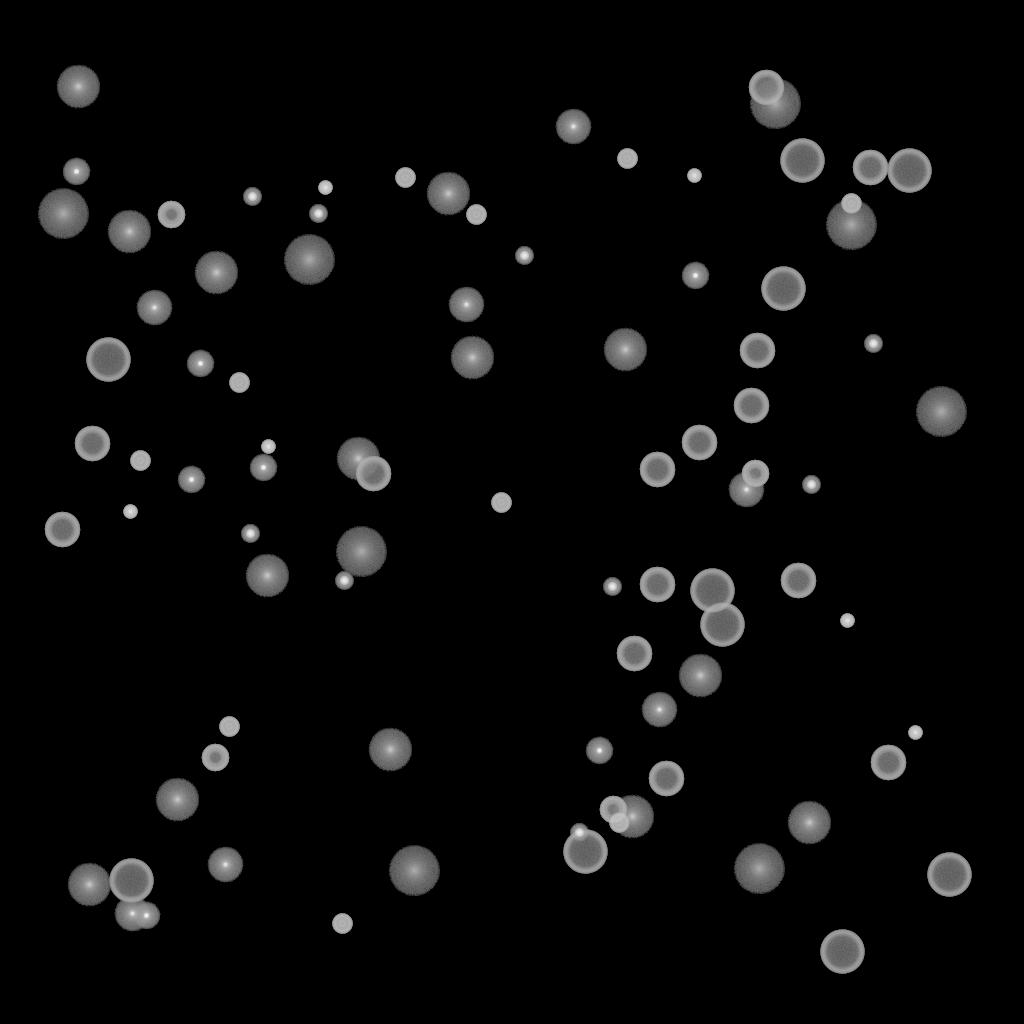depth:-10: (132, 902, 160, 930), (681, 262, 709, 290), (585, 737, 613, 765), (62, 158, 90, 186), (177, 466, 205, 494), (249, 454, 277, 482), (186, 350, 214, 378)
depth:-20: (241, 525, 259, 543), (570, 824, 588, 842), (603, 578, 621, 596), (802, 476, 820, 494), (335, 572, 353, 590), (515, 247, 533, 265), (864, 335, 882, 353), (243, 188, 261, 206), (309, 205, 327, 223)
depth:-30: (318, 181, 332, 195), (687, 169, 701, 183), (261, 440, 275, 454), (908, 726, 922, 740), (123, 505, 137, 519), (840, 614, 854, 628)
depth:-40: (219, 717, 239, 737), (229, 373, 249, 393), (609, 813, 629, 833), (332, 914, 352, 934), (841, 194, 861, 214), (130, 451, 150, 471), (617, 149, 637, 169), (466, 205, 486, 225), (491, 493, 511, 513), (395, 168, 415, 188)
depth:-50: (741, 460, 769, 488), (157, 201, 185, 229), (599, 796, 627, 824), (201, 744, 229, 772)
depth:-60: (780, 563, 816, 599), (639, 567, 675, 603), (44, 512, 80, 548), (748, 70, 784, 106), (681, 425, 717, 461), (639, 452, 675, 488), (739, 333, 775, 369), (852, 150, 888, 186), (648, 761, 684, 797), (733, 388, 769, 424), (355, 456, 391, 492), (616, 636, 652, 672), (74, 426, 110, 462), (870, 745, 906, 781)
depth:-70: (820, 930, 864, 974), (86, 338, 130, 382), (927, 853, 971, 897), (563, 830, 607, 874), (690, 569, 734, 613), (780, 139, 824, 183), (109, 859, 153, 903), (700, 603, 744, 647), (761, 267, 805, 311), (887, 149, 931, 193)
depth:0: (555, 109, 591, 145), (136, 290, 172, 326), (207, 847, 243, 883), (728, 472, 764, 508), (448, 287, 484, 323), (641, 692, 677, 728), (114, 896, 150, 932)
depth:10: (610, 795, 654, 839), (336, 437, 380, 481), (245, 554, 289, 598), (67, 863, 111, 907), (426, 172, 470, 216), (194, 251, 238, 295), (155, 778, 199, 822), (450, 336, 494, 380), (107, 210, 151, 254), (603, 328, 647, 372), (368, 728, 412, 772), (787, 801, 831, 845), (678, 654, 722, 698), (56, 65, 100, 109)
depth:20: (335, 527, 387, 577), (749, 79, 801, 129), (388, 846, 440, 896), (283, 235, 335, 285), (37, 189, 89, 239), (825, 200, 877, 250), (915, 387, 967, 437), (733, 844, 785, 894)
